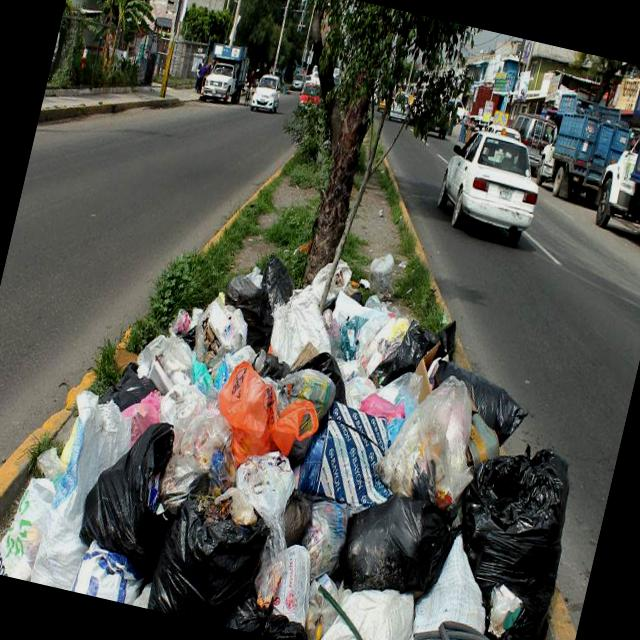garbage: (0, 145, 628, 640)
